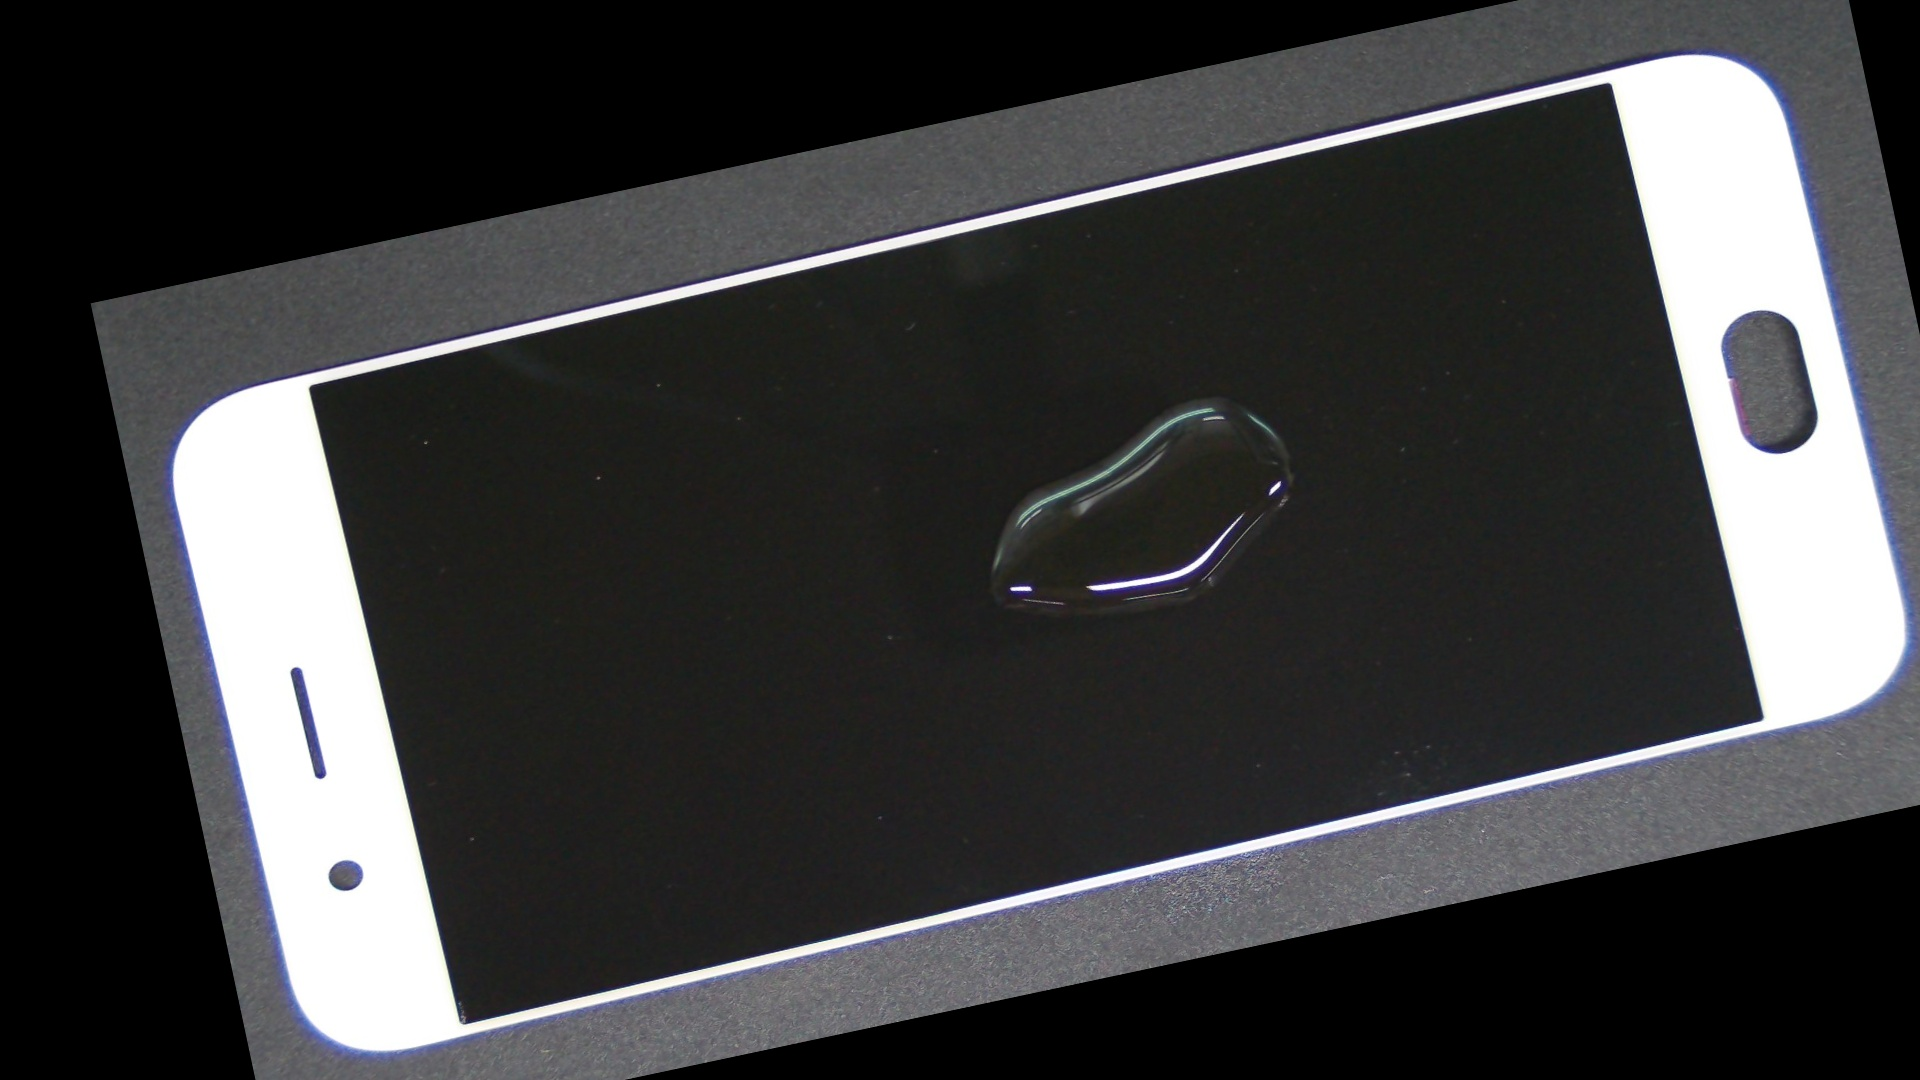oil: (641, 133, 1739, 669)
